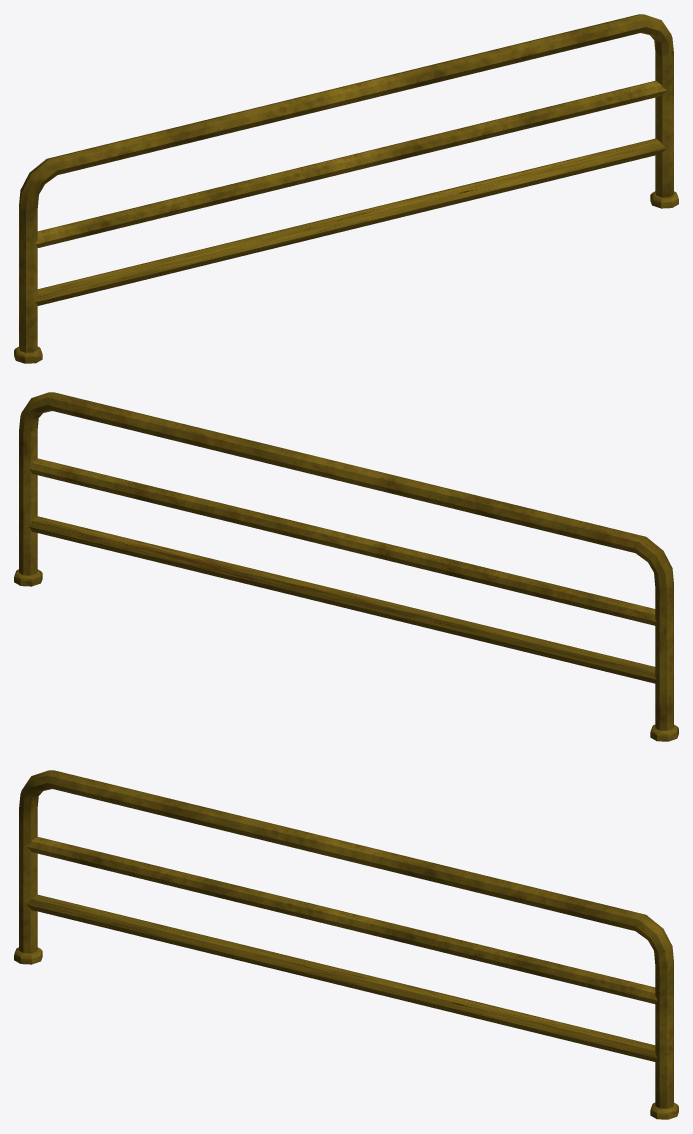
The model's file is railing.fbx.
The picture shows the model from 3 angles, top to bottom: view 1: azimuth 30°, elevation 25°; view 2: azimuth 150°, elevation 25°; view 3: azimuth 330°, elevation 25°; orthographic projection.
Visible parts, largest first — view 1: railing; view 2: railing; view 3: railing.
Part boxes in pixels (bbox=[...]): railing: bbox=[14, 14, 678, 363]; railing: bbox=[14, 392, 678, 741]; railing: bbox=[14, 770, 678, 1119].
Size of the model in its own units: 400 by 112 by 16.09.
Materials: 1 (1 with a texture image).
